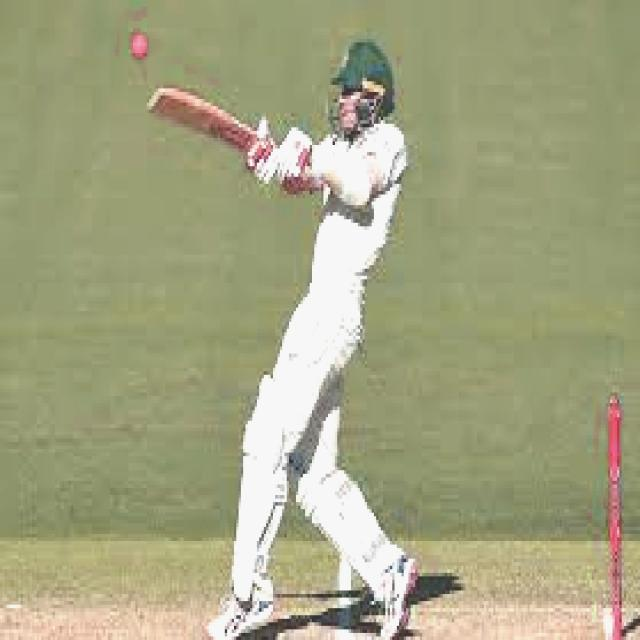toe: (146, 80, 168, 118)
